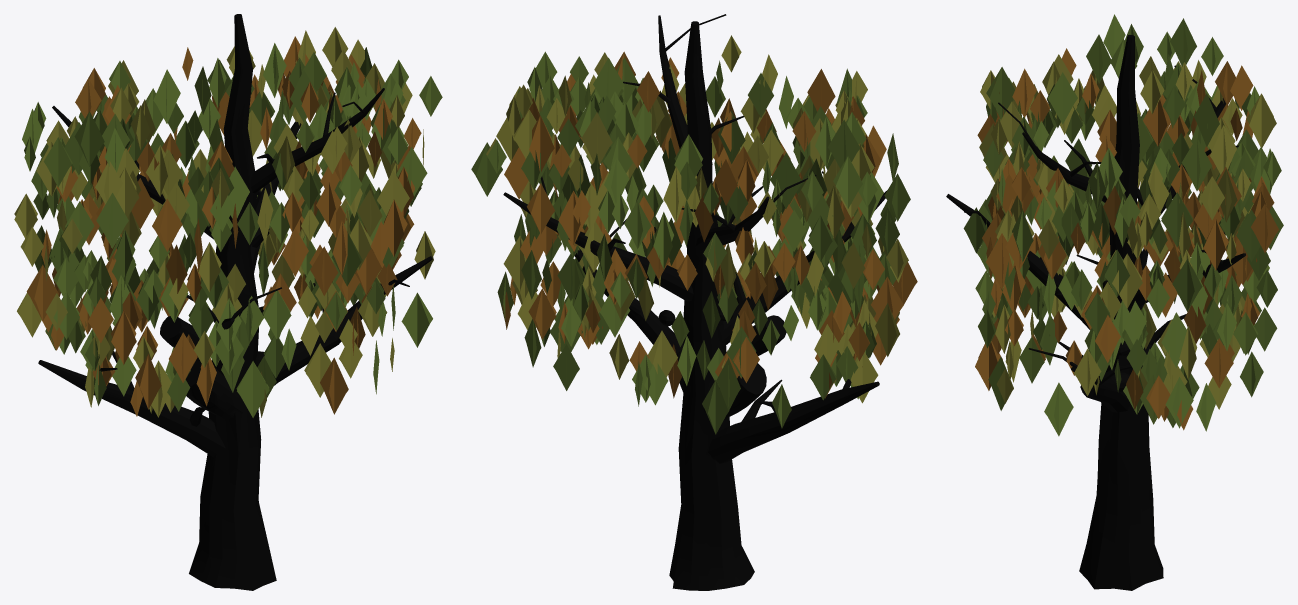
Rendered from BeyondTree_LOD0_v004.glb.
3 views of the same model, side by side, from view 1: azimuth 30°, elevation 25°; view 2: azimuth 150°, elevation 25°; view 3: azimuth 270°, elevation 25° (orthographic). The views are drawn at different scales.
Visible parts, largest first — view 1: Leaves, Bark_Fused_LOD0; view 2: Leaves, Bark_Fused_LOD0; view 3: Leaves, Bark_Fused_LOD0.
Part boxes in pixels (box(x1,y1,x2,y2)): Leaves: box(14, 27, 442, 417); Bark_Fused_LOD0: box(38, 14, 432, 590); Leaves: box(471, 35, 917, 434); Bark_Fused_LOD0: box(503, 14, 887, 590); Leaves: box(963, 14, 1283, 436); Bark_Fused_LOD0: box(946, 35, 1245, 590).
Bounding box in the file's own units: 6.9 × 9.08 × 5.11.
2 materials, 2 textured.
